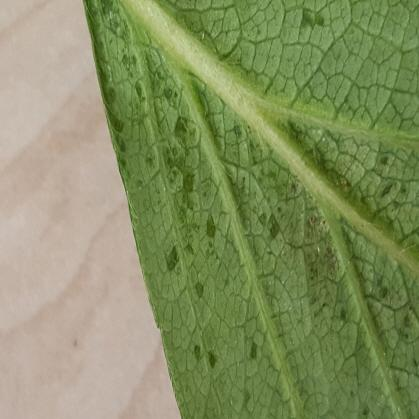Angular Leafspot: (83, 0, 418, 418)
